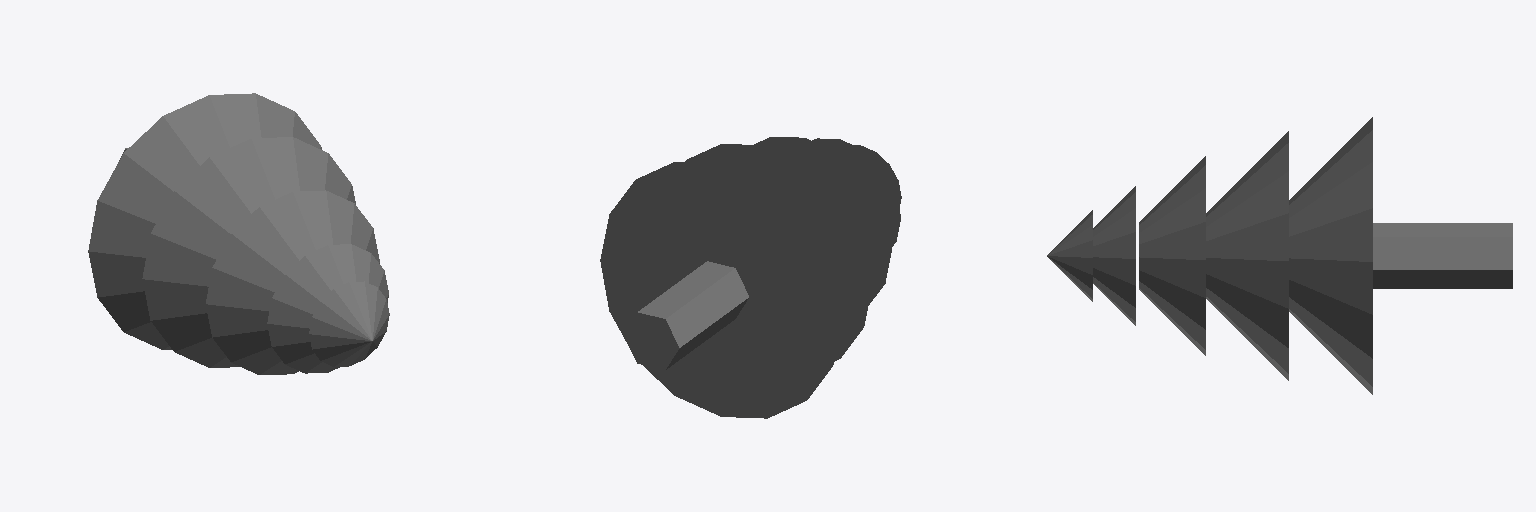
The model's file is tree_1.obj.
3 views of the same model, side by side, from view 1: azimuth 30°, elevation 25°; view 2: azimuth 150°, elevation 25°; view 3: azimuth 270°, elevation 25° (orthographic).
Size of the model in its own units: 81.38 by 81.38 by 136.